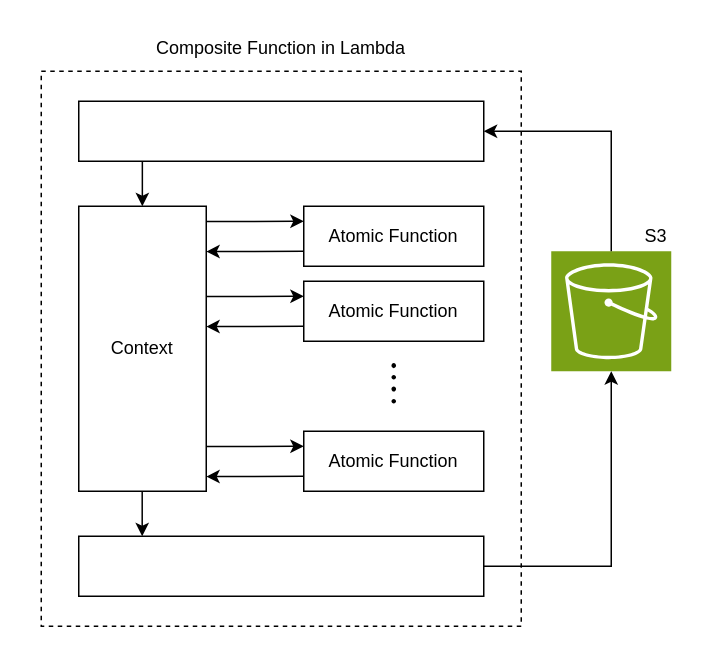
This 711x666 diagram has some shape labels left out. The shapes that lost their labels are listed below. From the top down, each one's box as (x1, y1, x2, y2) in pixels, then its label:
(77, 100, 484, 161): Read Cache
(77, 535, 484, 596): Write Cache
